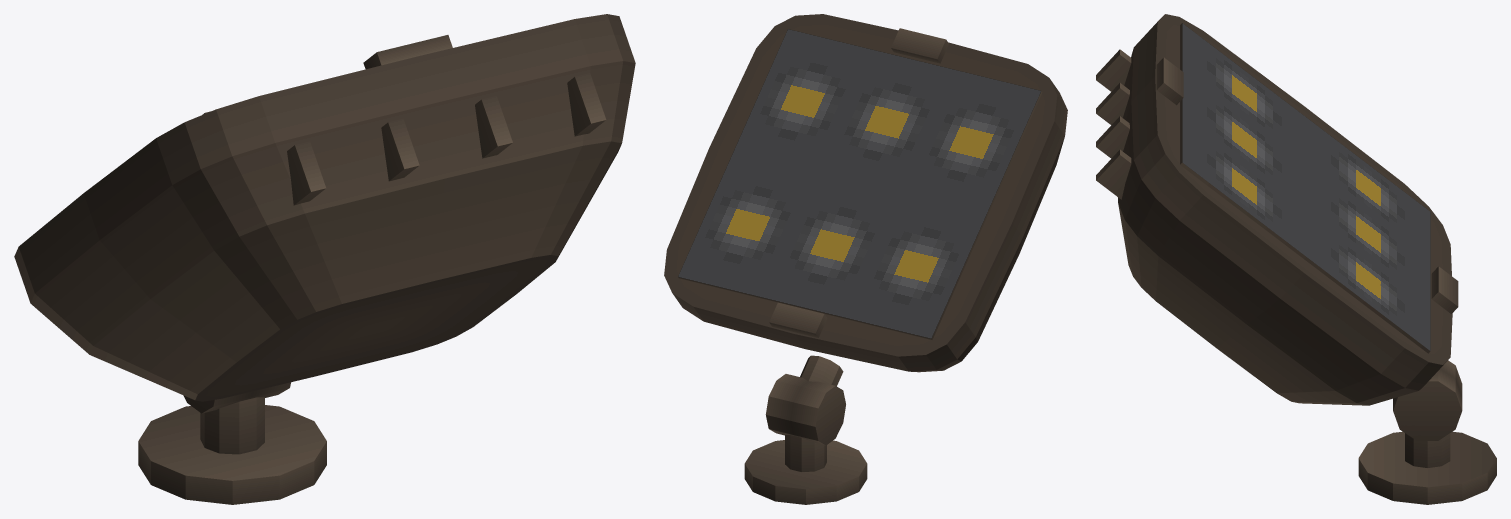
The model's file is floodlight_lithtflkn_g.obj.
The picture shows the model from 3 angles, left to right: view 1: azimuth 30°, elevation 25°; view 2: azimuth 150°, elevation 25°; view 3: azimuth 270°, elevation 25°; orthographic projection. The views are drawn at different scales.
Parts seen in each view (by area): view 1: fixture; view 2: fixture; view 3: fixture.
Part boxes in pixels (x1,y1,x2,y2): fixture: (14, 14, 635, 504); fixture: (664, 14, 1067, 504); fixture: (1096, 14, 1496, 504).
Bounding box in the file's own units: 0.5714 × 0.6474 × 0.5794.
